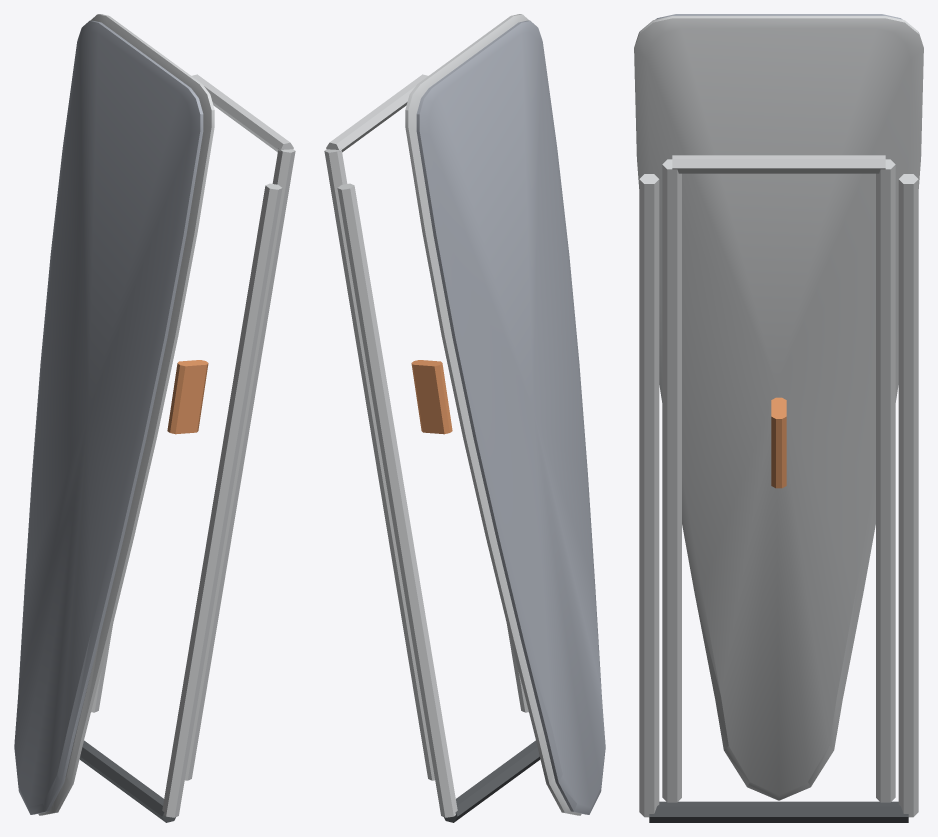
The model's file is home-appliances-and-utility-ironing-board-folded-fb9c027d__14063.glb.
The picture shows the model from 3 angles, left to right: view 1: azimuth 30°, elevation 25°; view 2: azimuth 150°, elevation 25°; view 3: azimuth 270°, elevation 25°; orthographic projection. The views are drawn at different scales.
Visible parts, largest first — view 1: ironing-board-folded; view 2: ironing-board-folded; view 3: ironing-board-folded.
Boxes of the visible parts, x1,y1,x2,y2 form: ironing-board-folded: (14,14,295,822); ironing-board-folded: (324,14,605,822); ironing-board-folded: (634,14,923,822).
Size of the model in its own units: 0.3798 by 1.23 by 0.38.
